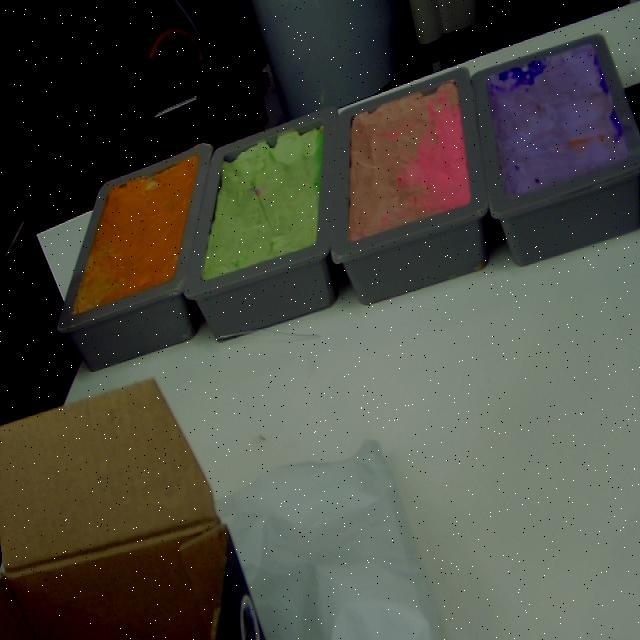block: (328, 66, 492, 306), (472, 33, 640, 267), (182, 110, 346, 342), (52, 144, 214, 369)
